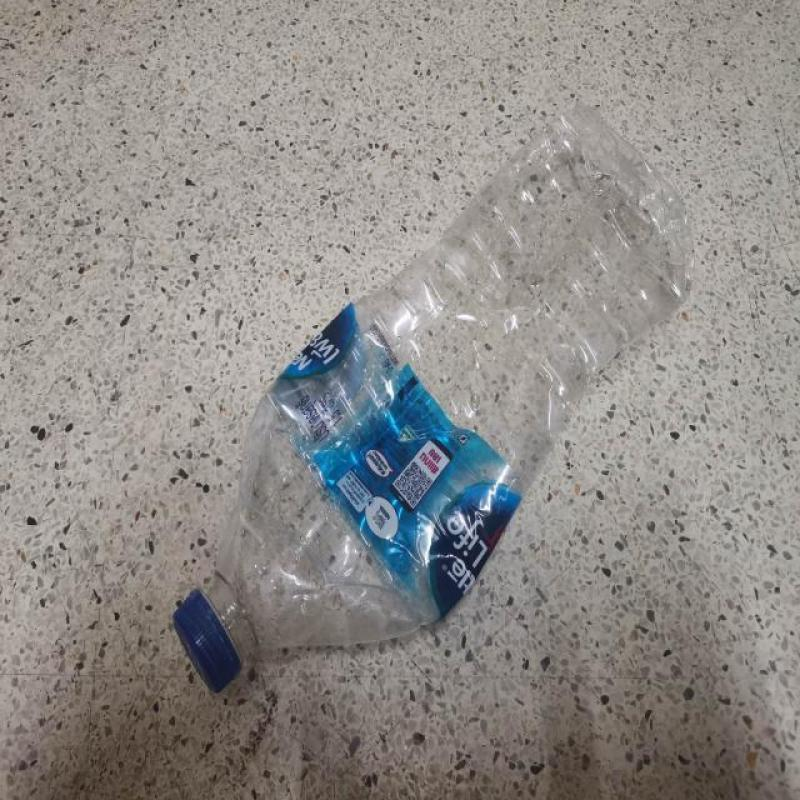botella: (173, 106, 695, 694)
